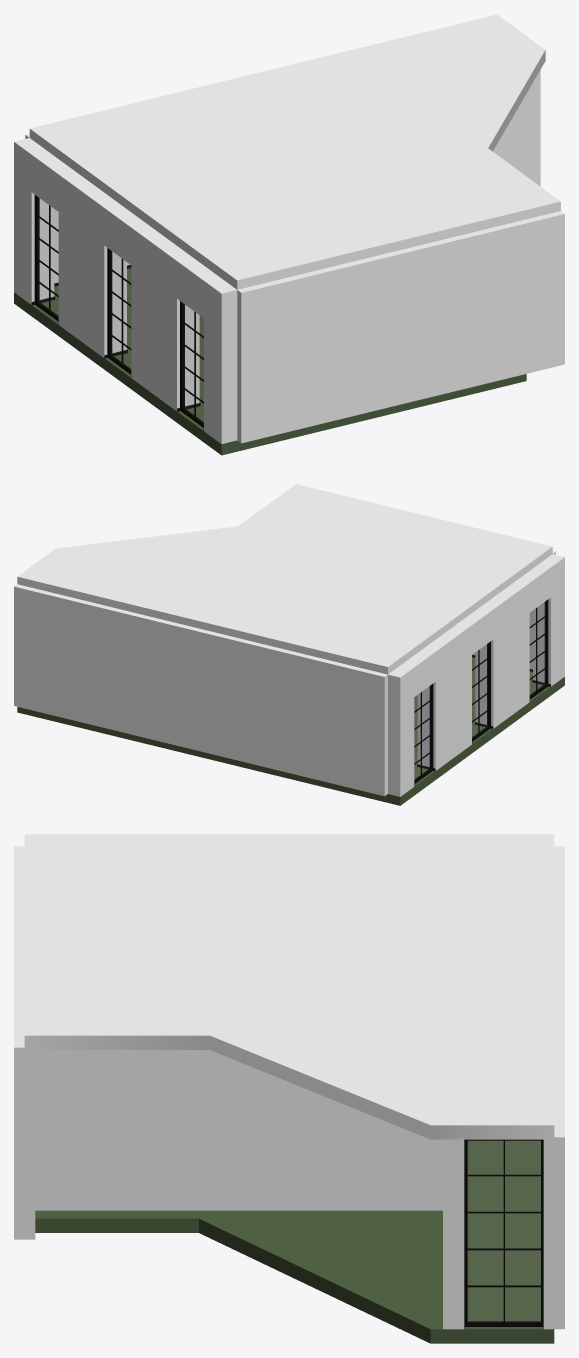
The model's file is room.FBX.
3 views of the same model, one above another, from view 1: azimuth 30°, elevation 25°; view 2: azimuth 150°, elevation 25°; view 3: azimuth 270°, elevation 25° (orthographic). The views are drawn at different scales.
Parts seen in each view (by area): view 1: walls, cell, floor, FixedWindow002, FixedWindow001, FixedWindow003; view 2: walls, cell, floor, FixedWindow003, FixedWindow001, FixedWindow002; view 3: cell, walls, floor, FixedWindow004.
Part boxes in pixels (bbox=[...]): walls: bbox=[14, 70, 564, 443]; cell: bbox=[29, 14, 560, 289]; floor: bbox=[14, 268, 526, 455]; FixedWindow002: bbox=[107, 248, 131, 374]; FixedWindow001: bbox=[34, 195, 58, 321]; FixedWindow003: bbox=[180, 301, 203, 427]; walls: bbox=[14, 551, 564, 796]; cell: bbox=[17, 484, 552, 674]; floor: bbox=[17, 657, 564, 805]; FixedWindow003: bbox=[529, 599, 548, 699]; FixedWindow001: bbox=[414, 683, 433, 783]; FixedWindow002: bbox=[472, 641, 490, 741]; cell: bbox=[24, 834, 554, 1139]; walls: bbox=[14, 846, 564, 1329]; floor: bbox=[35, 1140, 554, 1343]; FixedWindow004: bbox=[464, 1139, 543, 1326].
Bounding box in the file's own units: 13.43 × 4.55 × 10.4.
